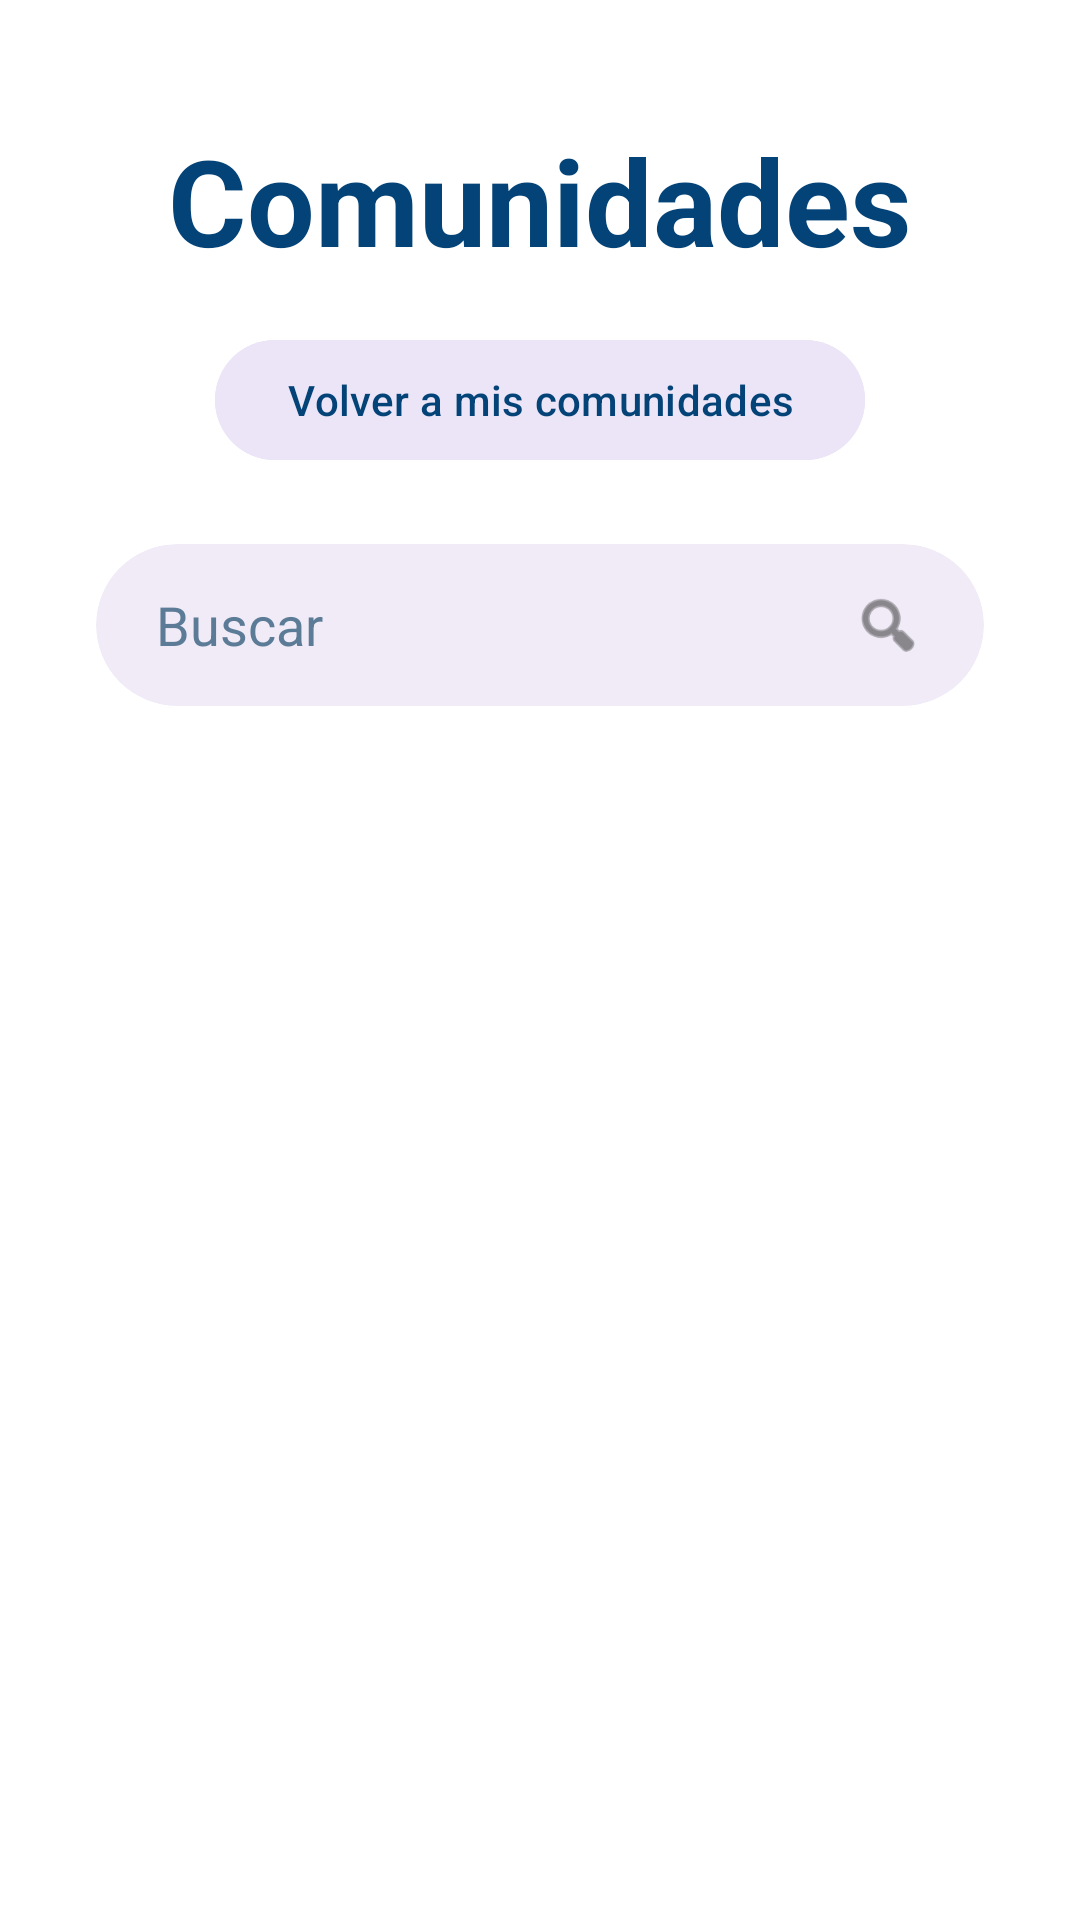

Screen size 1080*1920. Icon name, then its box in pixels as (x1, y1, x2, y2):
search: (861, 599, 915, 652)
